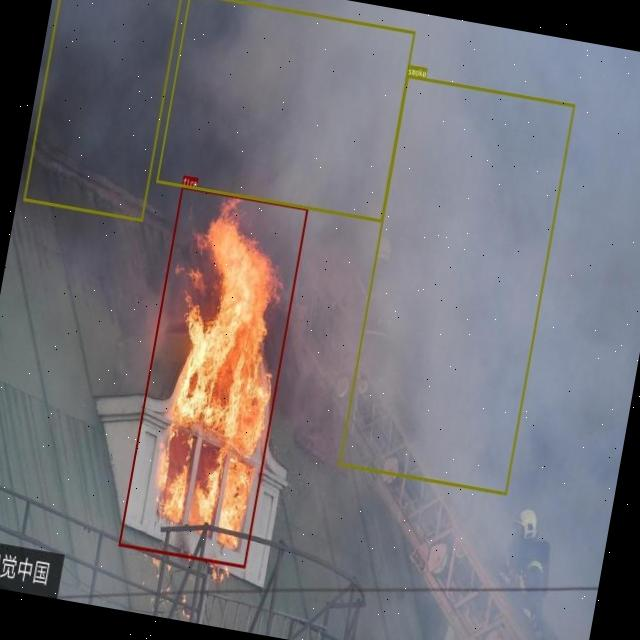fire: (118, 185, 308, 568)
smoke: (338, 74, 574, 494), (155, 0, 414, 221), (22, 0, 182, 220)
